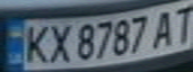7: (127, 12, 154, 53), (90, 18, 115, 60)
8: (112, 16, 136, 57), (72, 20, 96, 61)
A: (148, 7, 181, 48)
K: (18, 21, 54, 65)
T: (169, 2, 193, 45)
X: (42, 20, 75, 64)
